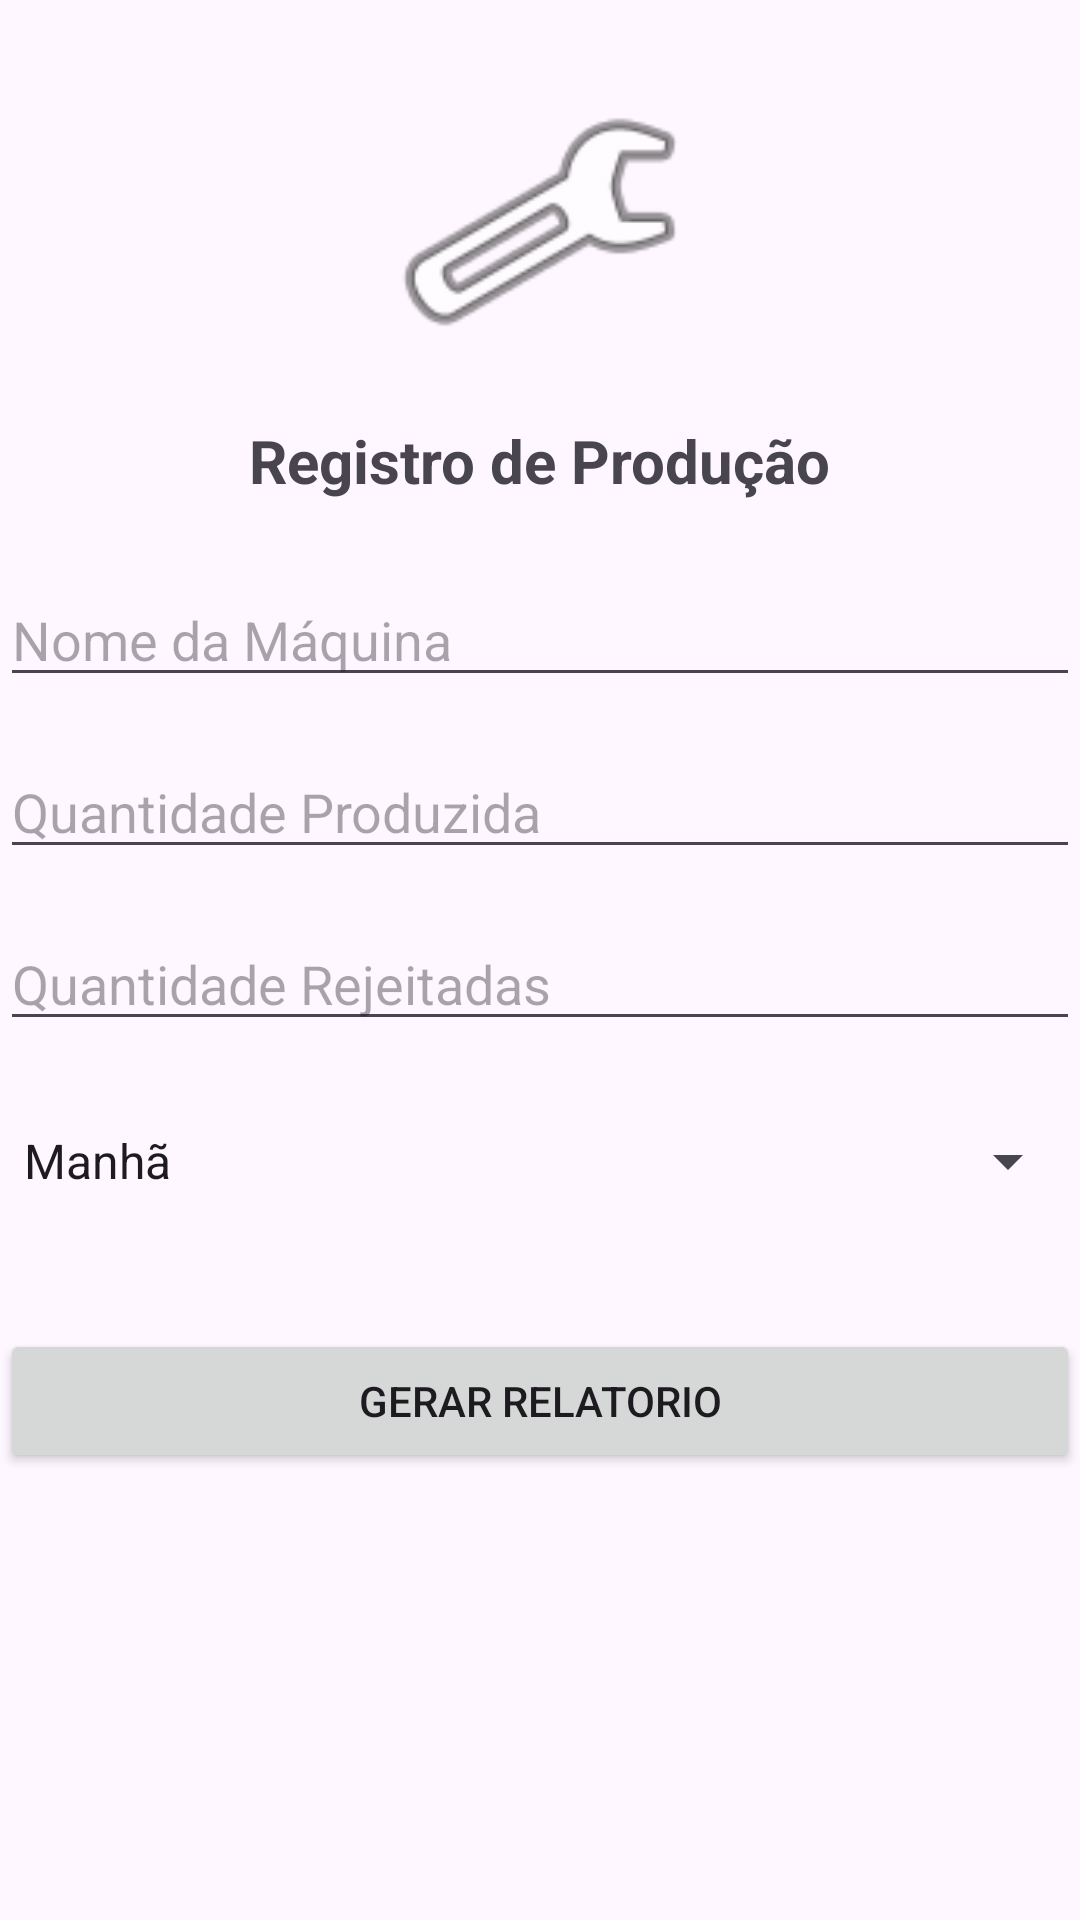

Locate icon controls on the screen. Image size 1080 x 1920, boxes as (x1, y1, x2, y2).
manage: (404, 118, 675, 326)
